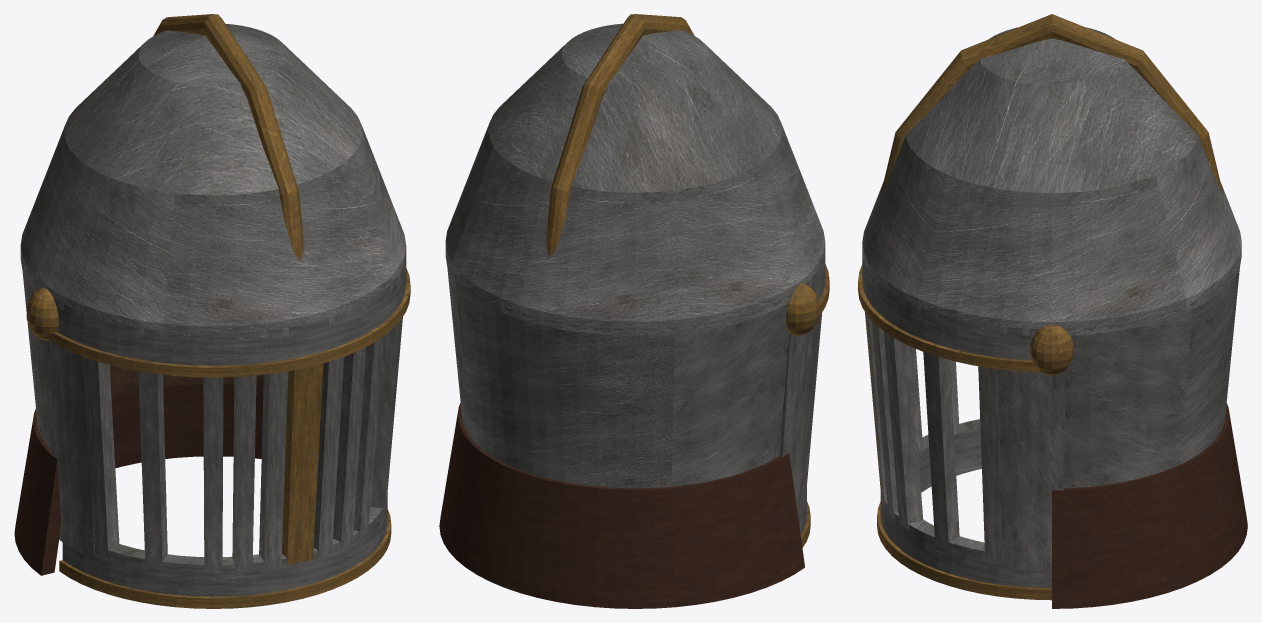
The model's file is light.obj.
3 views of the same model, side by side, from view 1: azimuth 30°, elevation 25°; view 2: azimuth 150°, elevation 25°; view 3: azimuth 270°, elevation 25° (orthographic).
Parts seen in each view (by area): view 1: hollow_crown, neck_curtain, brow, lower_visor, left_cheek, visor_bar_3, crown_ridge, visor_bar_0, brow_trim, visor_slat_1, visor_bar_1, jaw_trim (+9 smaller); view 2: hollow_crown, rear_shell, neck_curtain, crown_ridge, left_cheek, hinge_-1, visor_bar_0; view 3: hollow_crown, rear_shell, neck_curtain, right_cheek, crown_ridge, lower_visor, brow, visor_bar_5, visor_bar_4, visor_bar_6, brow_trim, jaw_trim (+4 smaller).
Boxes of the visible parts, x1=… form: hollow_crown: x1=20, y1=23, x2=406, y2=339; neck_curtain: x1=14, y1=384, x2=263, y2=575; brow: x1=53, y1=252, x2=406, y2=365; lower_visor: x1=62, y1=493, x2=387, y2=596; left_cheek: x1=40, y1=288, x2=94, y2=559; visor_bar_3: x1=282, y1=363, x2=323, y2=565; crown_ridge: x1=153, y1=14, x2=303, y2=260; visor_bar_0: x1=82, y1=357, x2=119, y2=557; brow_trim: x1=49, y1=268, x2=410, y2=377; visor_slat_1: x1=259, y1=371, x2=288, y2=568; visor_bar_1: x1=138, y1=371, x2=167, y2=568; jaw_trim: x1=59, y1=509, x2=391, y2=608; hollow_crown: x1=445, y1=23, x2=825, y2=335; rear_shell: x1=446, y1=253, x2=792, y2=488; neck_curtain: x1=439, y1=403, x2=804, y2=608; crown_ridge: x1=546, y1=14, x2=694, y2=256; left_cheek: x1=779, y1=267, x2=820, y2=519; hinge_-1: x1=786, y1=283, x2=819, y2=335; visor_bar_0: x1=803, y1=313, x2=821, y2=505; hollow_crown: x1=862, y1=27, x2=1241, y2=335; rear_shell: x1=1064, y1=253, x2=1241, y2=488; neck_curtain: x1=1052, y1=403, x2=1247, y2=608; right_cheek: x1=996, y1=325, x2=1065, y2=570; crown_ridge: x1=880, y1=14, x2=1223, y2=194; lower_visor: x1=880, y1=419, x2=1051, y2=588; brow: x1=862, y1=250, x2=1040, y2=360; visor_bar_5: x1=923, y1=352, x2=959, y2=549; visor_bar_4: x1=884, y1=331, x2=923, y2=530; visor_bar_6: x1=978, y1=366, x2=1001, y2=560; brow_trim: x1=858, y1=264, x2=1040, y2=372; jaw_trim: x1=877, y1=502, x2=1051, y2=600.
Size of the model in its own units: 82.92 by 112 by 77.34.
4 materials, 4 textured.
